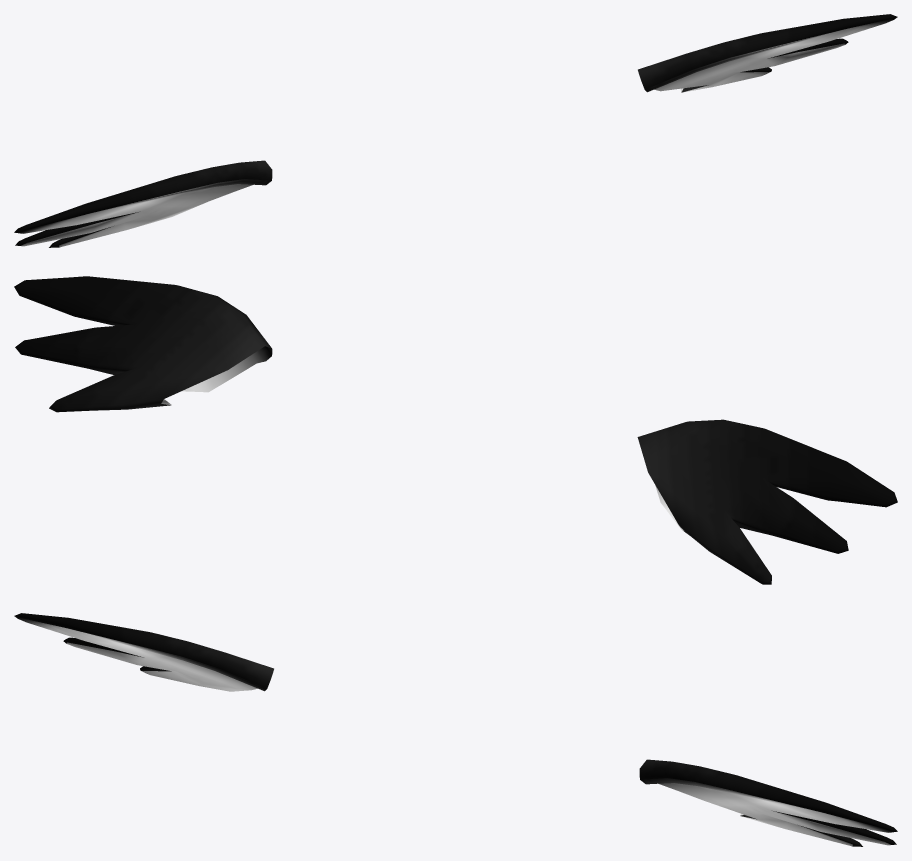
Rendered from 0250_chibang_123.glb.
3 renders of one model, top to bottom at view 1: azimuth 30°, elevation 25°; view 2: azimuth 150°, elevation 25°; view 3: azimuth 330°, elevation 25°, orthographic.
Size of the model in its own units: 2.2 by 0.2356 by 0.2776.
Materials: 1 (1 with a texture image).
